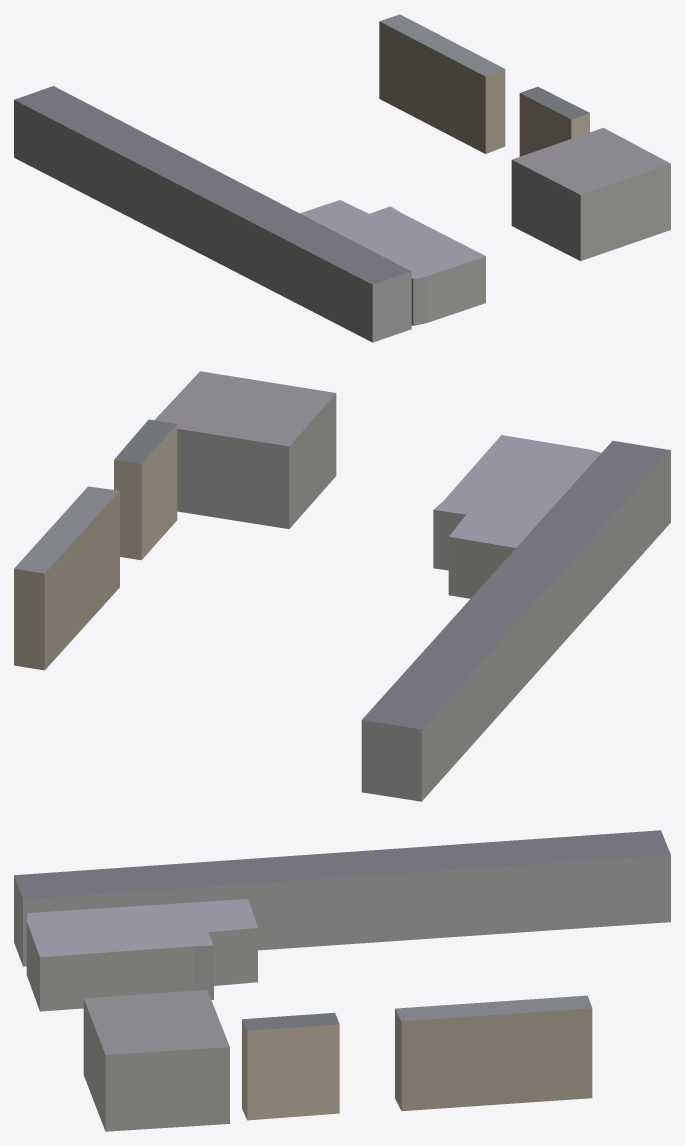
The picture shows the model from 3 angles, top to bottom: view 1: azimuth 30°, elevation 25°; view 2: azimuth 150°, elevation 25°; view 3: azimuth 270°, elevation 25°; orthographic projection. The views are drawn at different scales.
Visible parts, largest first — view 1: tuile; view 2: tuile; view 3: tuile.
Part boxes in pixels (bbox=[...]): tuile: bbox=[14, 14, 670, 342]; tuile: bbox=[14, 371, 670, 801]; tuile: bbox=[14, 830, 670, 1131].
Size of the model in its own units: 185 by 33.27 by 217.
